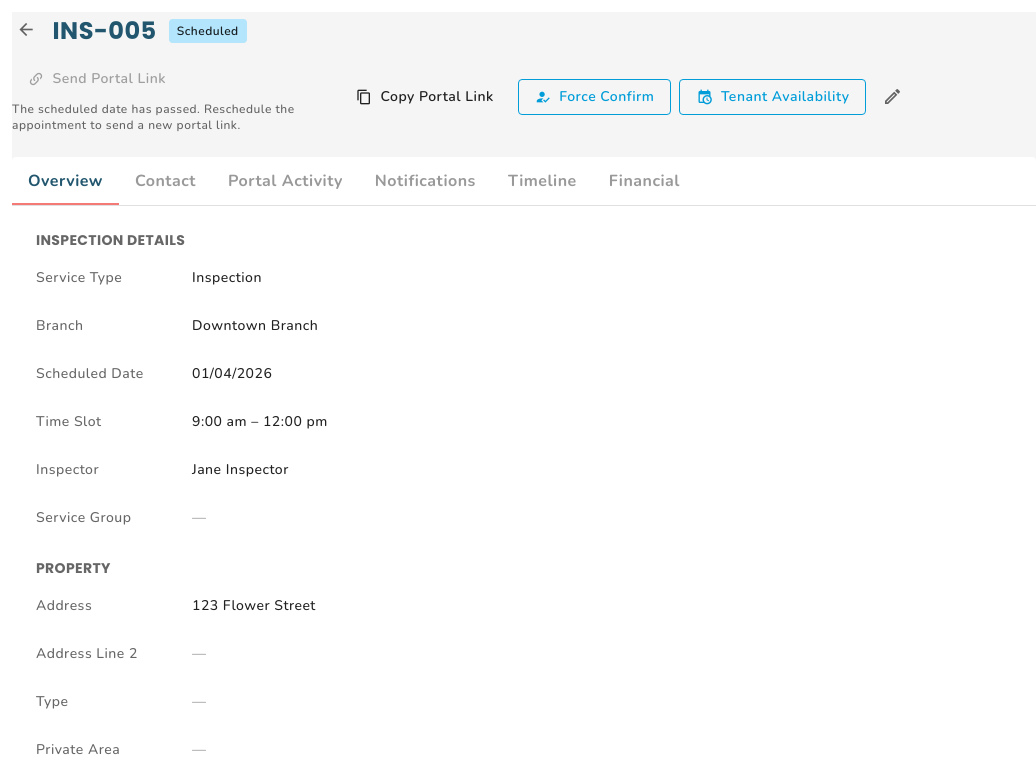
Test case: AppointmentDetailPage — Copy Portal Link generate-only modal › copies directly without the modal when a token is already active
The image size is (1036, 780).
Click the button with test id "copy-portal-link-button" at [425, 97], box top-left (340, 79), bottom-right (510, 115)
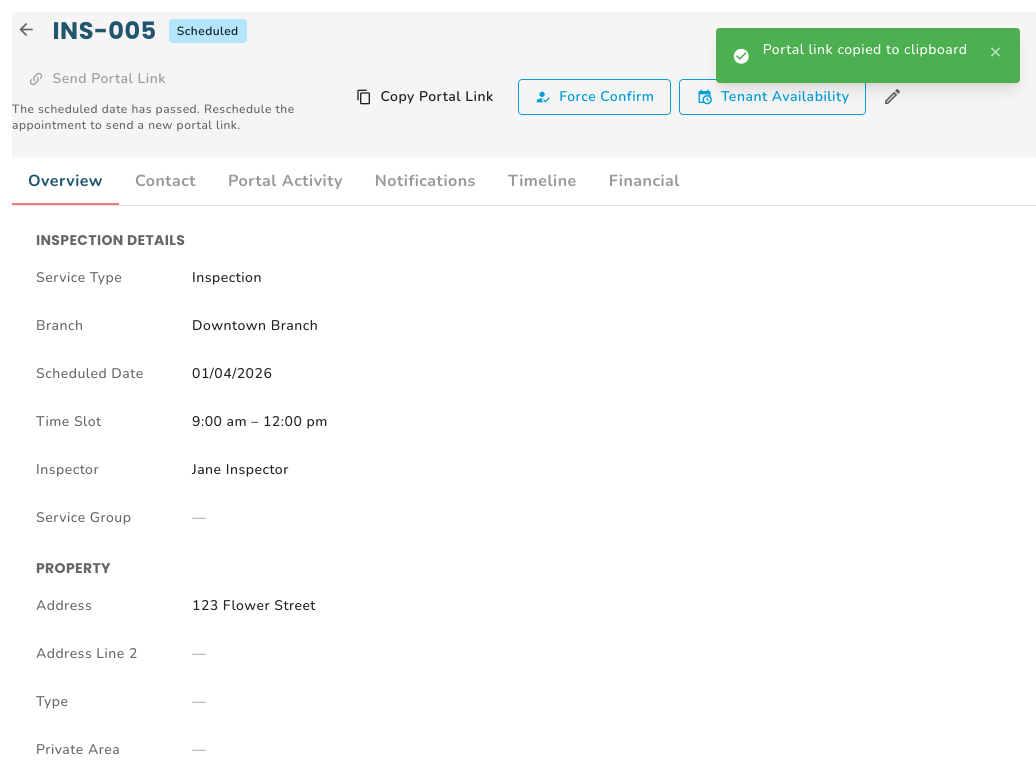
Expected: the text "Portal link copied to clipboard" is shown, top-left (763, 40), bottom-right (968, 60)
